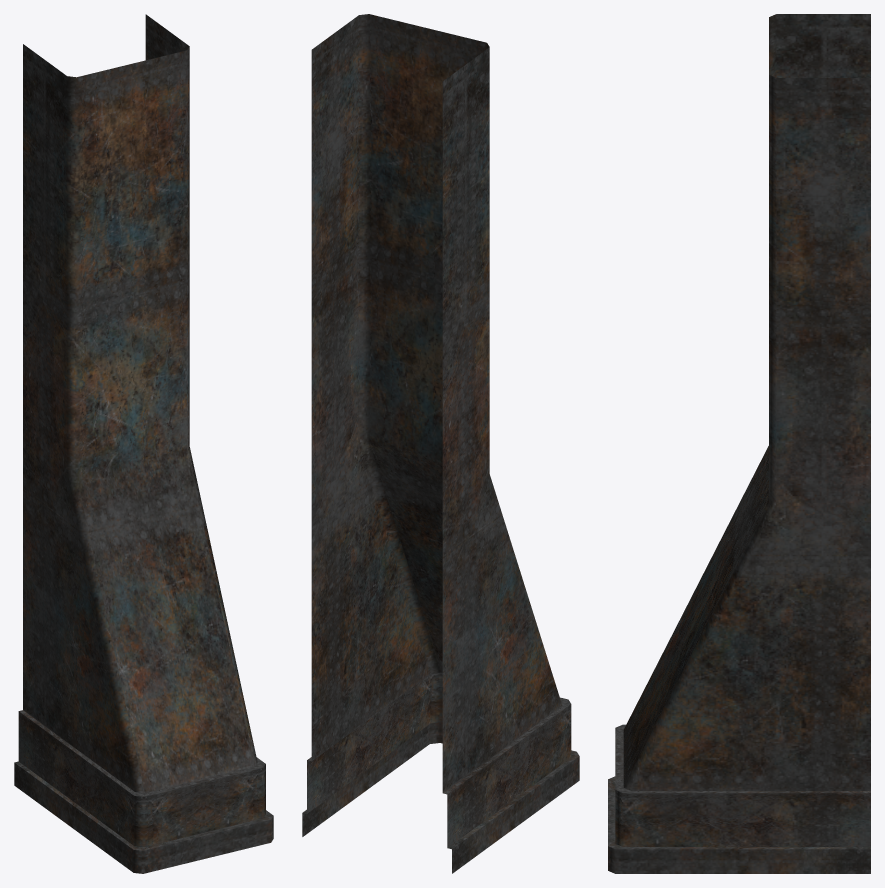
File: Basement_Corridor_C_Pillar_B.glb
3 views of the same model, side by side, from view 1: azimuth 30°, elevation 25°; view 2: azimuth 150°, elevation 25°; view 3: azimuth 270°, elevation 25° (orthographic). The views are drawn at different scales.
Visible parts, largest first — view 1: Basement_Corridor_C_Pillar_B; view 2: Basement_Corridor_C_Pillar_B; view 3: Basement_Corridor_C_Pillar_B.
Part boxes in pixels (bbox=[...]): Basement_Corridor_C_Pillar_B: bbox=[14, 14, 273, 873]; Basement_Corridor_C_Pillar_B: bbox=[302, 14, 579, 873]; Basement_Corridor_C_Pillar_B: bbox=[608, 14, 870, 873].
Bounding box in the file's own units: 0.595 × 3 × 0.9032.
Materials: 1 (1 with a texture image).
